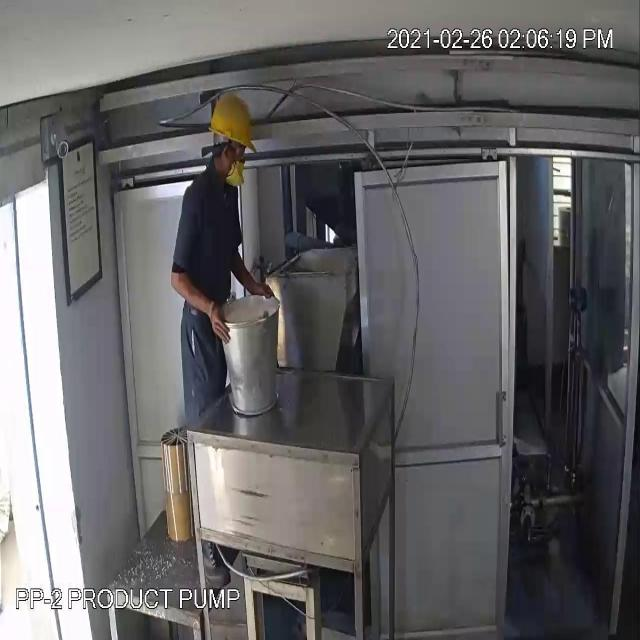helmet: (208, 82, 262, 164)
